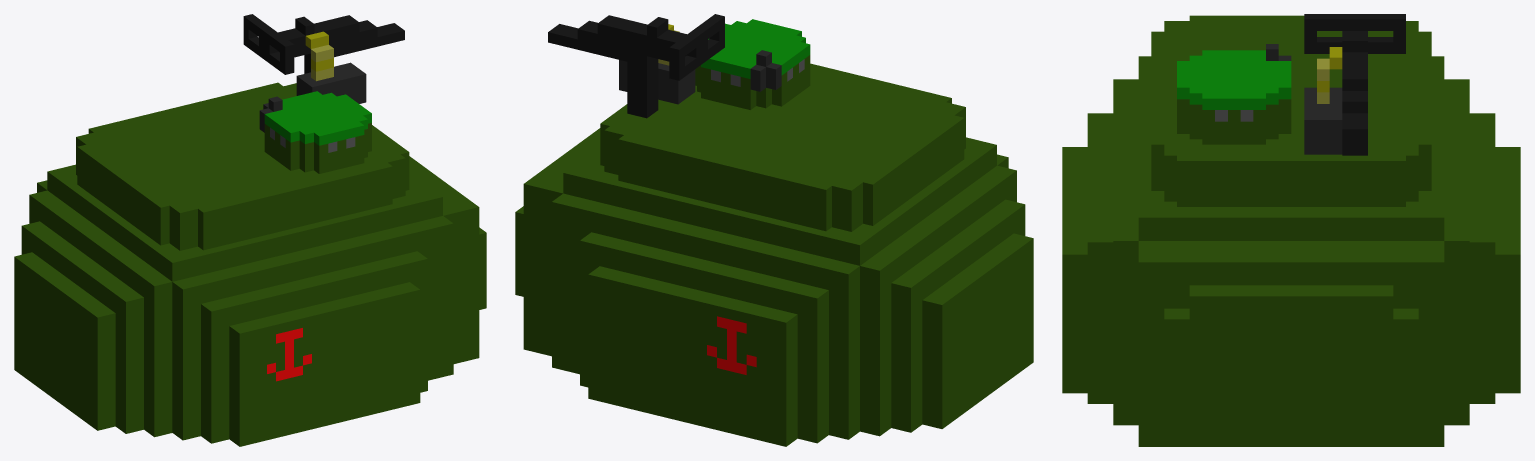
File: Tank1-1.obj
3 views of the same model, side by side, from view 1: azimuth 30°, elevation 25°; view 2: azimuth 150°, elevation 25°; view 3: azimuth 270°, elevation 25° (orthographic). The views are drawn at different scales.
Bounding box in the file's own units: 4.2 × 3.1 × 3.6.
1 material, 1 textured.
